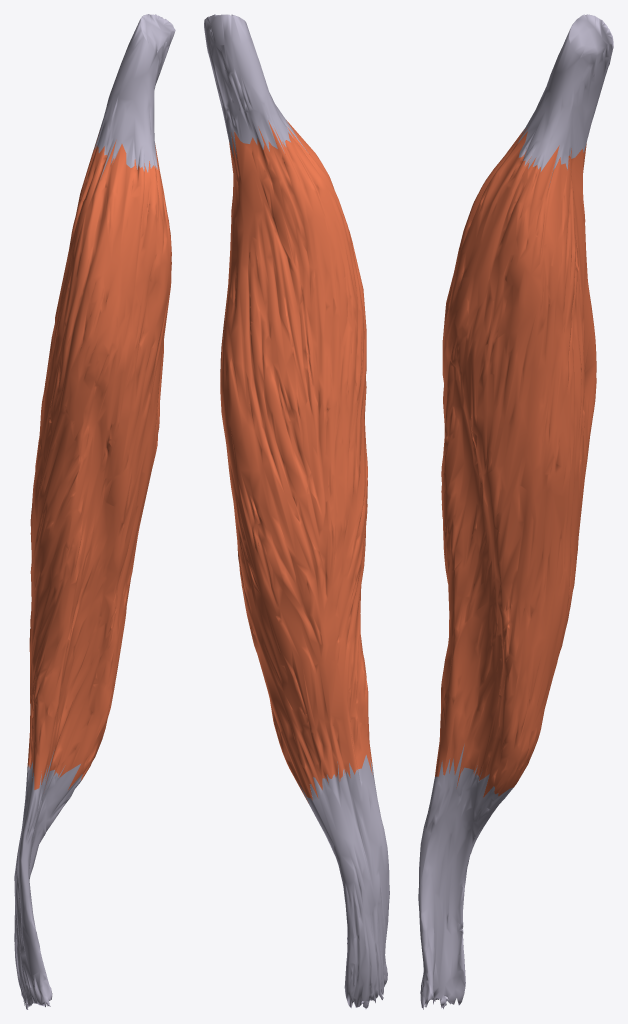
File: Biceps_femoris_long_head_right.glb
3 views of the same model, side by side, from view 1: azimuth 30°, elevation 25°; view 2: azimuth 150°, elevation 25°; view 3: azimuth 330°, elevation 25° (orthographic). The views are drawn at different scales.
Visible parts, largest first — view 1: Long_head_of_biceps_femoris_muscle.r_Generated_Mesh_From_X3D; view 2: Long_head_of_biceps_femoris_muscle.r_Generated_Mesh_From_X3D; view 3: Long_head_of_biceps_femoris_muscle.r_Generated_Mesh_From_X3D.
Boxes of the visible parts, x1,y1,x2,y2 form: Long_head_of_biceps_femoris_muscle.r_Generated_Mesh_From_X3D: [14, 14, 175, 1009]; Long_head_of_biceps_femoris_muscle.r_Generated_Mesh_From_X3D: [204, 14, 389, 1009]; Long_head_of_biceps_femoris_muscle.r_Generated_Mesh_From_X3D: [418, 14, 613, 1009].
Bounding box in the file's own units: 0.0782 × 0.426 × 0.0558.
